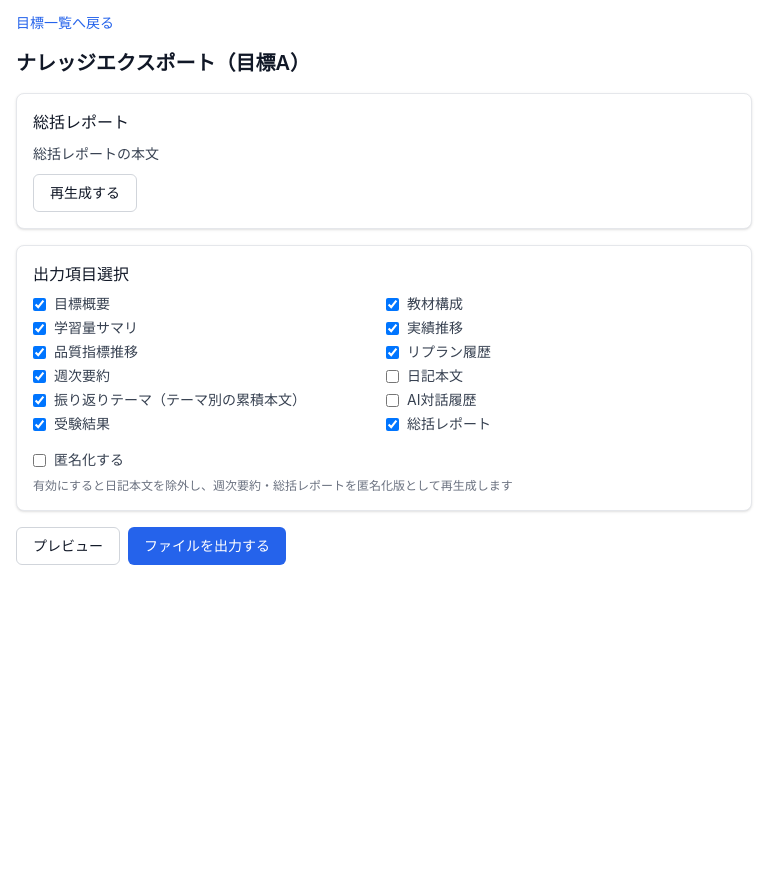
KnowledgeExportPage の学習サマリ › marks the quality as unavailable when there is no trend
Click the button "プレビュー": point(68, 546) [16,527,120,565]
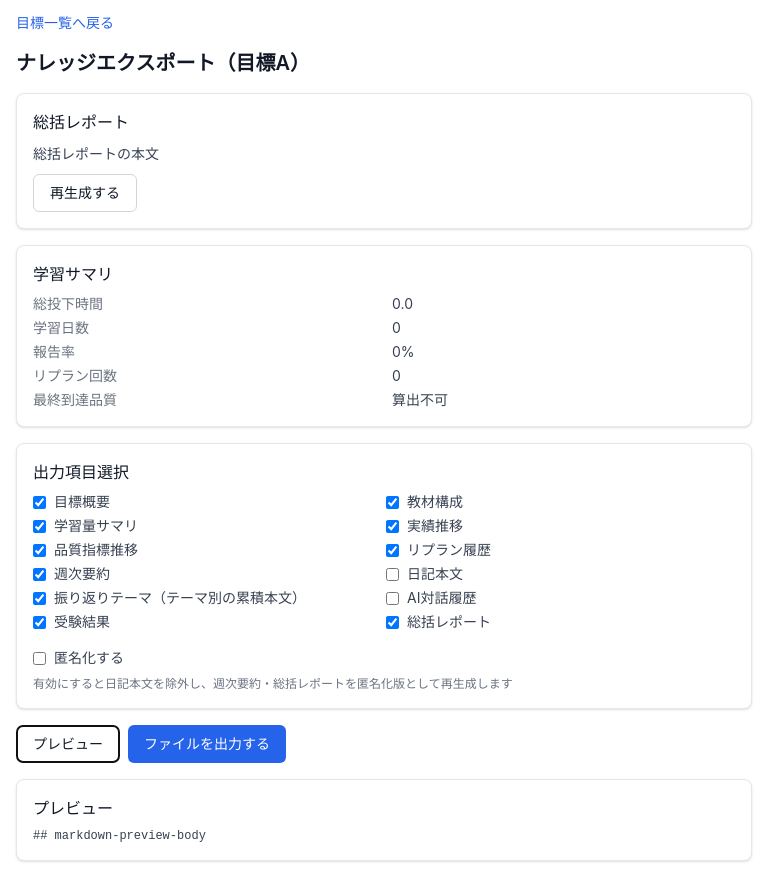
Expected: the heading "学習サマリ" is shown, [33,264,113,284]
Expected: the text "算出不可" is shown, [392,391,448,408]
